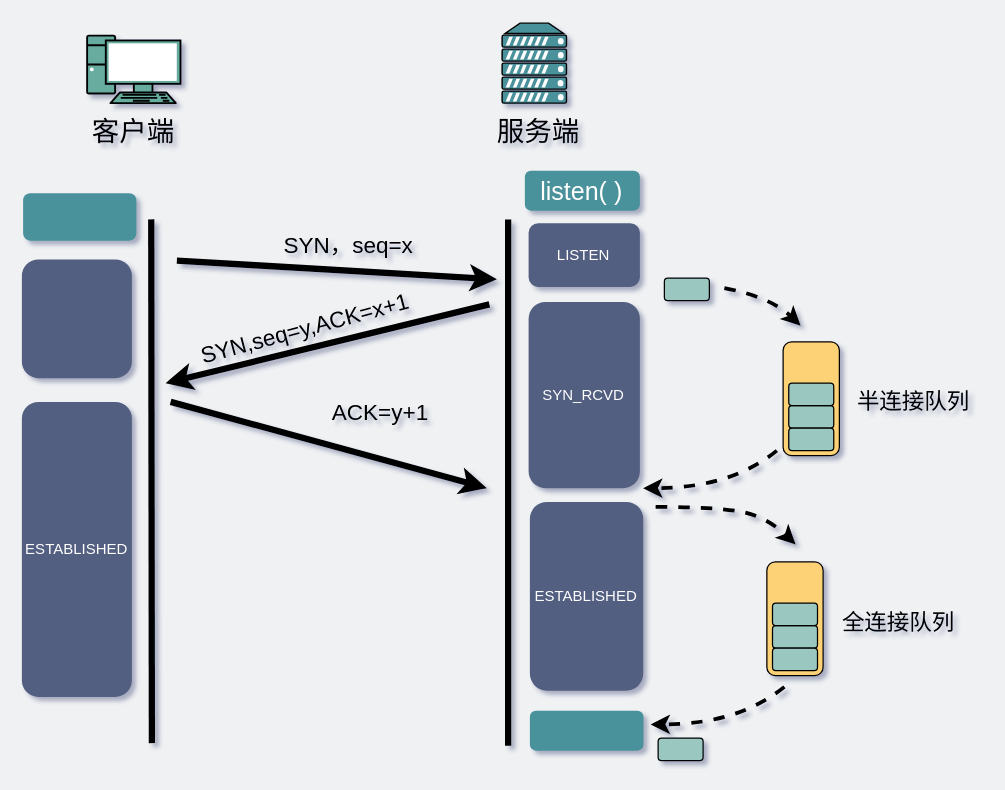
The diagram is 1005 pixels wide and 790 high, and some of its shapes have lost their labels. The shapes that lost their labels are listed below. From the top down, each one's centre as x and y in pixels, then its label:
[79,216]: connect()
[76,318]: SYN_SENT
[586,730]: accept( )
